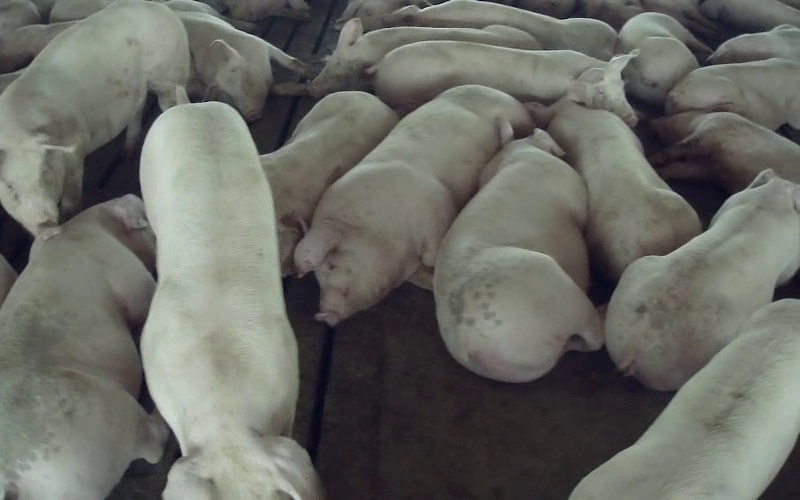pig: (140, 85, 320, 499), (295, 85, 533, 325), (0, 195, 166, 499), (570, 300, 799, 499), (0, 2, 188, 235), (605, 169, 799, 388), (435, 129, 603, 381), (525, 98, 700, 280), (260, 91, 396, 274), (368, 41, 636, 125), (271, 18, 541, 96), (165, 0, 311, 120), (384, 0, 616, 60), (651, 111, 799, 192), (665, 58, 799, 130), (617, 12, 711, 105)
